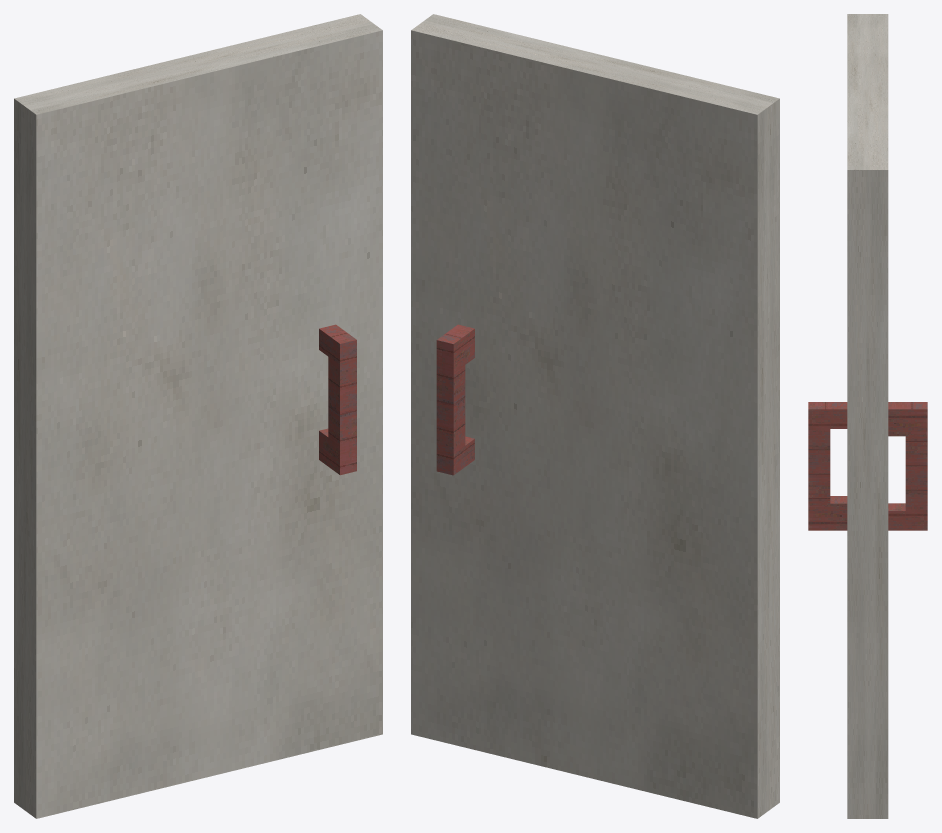
File: white_door.glb
The picture shows the model from 3 angles, left to right: view 1: azimuth 30°, elevation 25°; view 2: azimuth 150°, elevation 25°; view 3: azimuth 270°, elevation 25°; orthographic projection. The views are drawn at different scales.
Visible parts, largest first — view 1: basic_door_white; view 2: basic_door_white; view 3: basic_door_white.
Boxes of the visible parts, x1,y1,x2,y2 form: basic_door_white: [14, 14, 382, 818]; basic_door_white: [411, 14, 779, 818]; basic_door_white: [808, 14, 927, 818].
Size of the model in its own units: 1.19 by 2.31 by 0.3843.
1 material, 1 textured.
